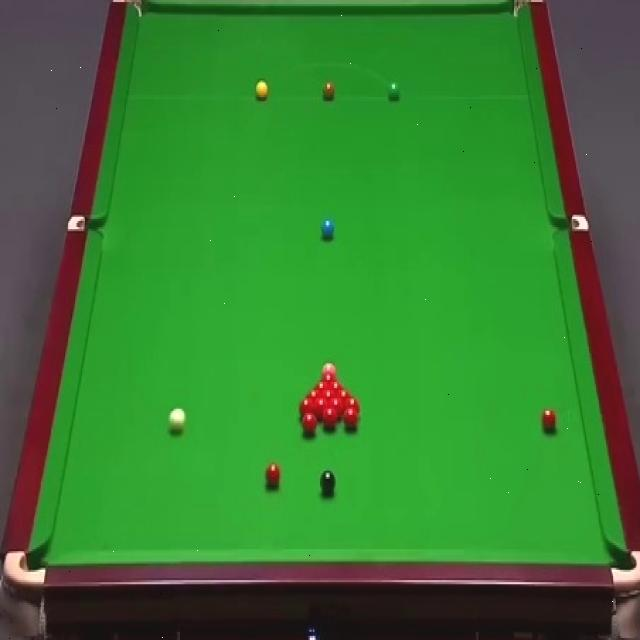black-ball: (320, 471, 335, 494)
blue-ball: (321, 217, 335, 238)
brown-ball: (322, 79, 336, 103)
green-ball: (386, 79, 400, 101)
pink-ball: (321, 362, 339, 375)
red-ball: (264, 462, 280, 488), (541, 408, 556, 434), (303, 413, 318, 435), (298, 400, 314, 418), (338, 389, 351, 411), (346, 396, 360, 416), (323, 408, 336, 428), (315, 399, 328, 418), (330, 400, 342, 420), (345, 408, 357, 428), (306, 390, 322, 399), (321, 392, 338, 398)
white-ball: (169, 409, 188, 434)
yellow-ball: (256, 81, 268, 101)
